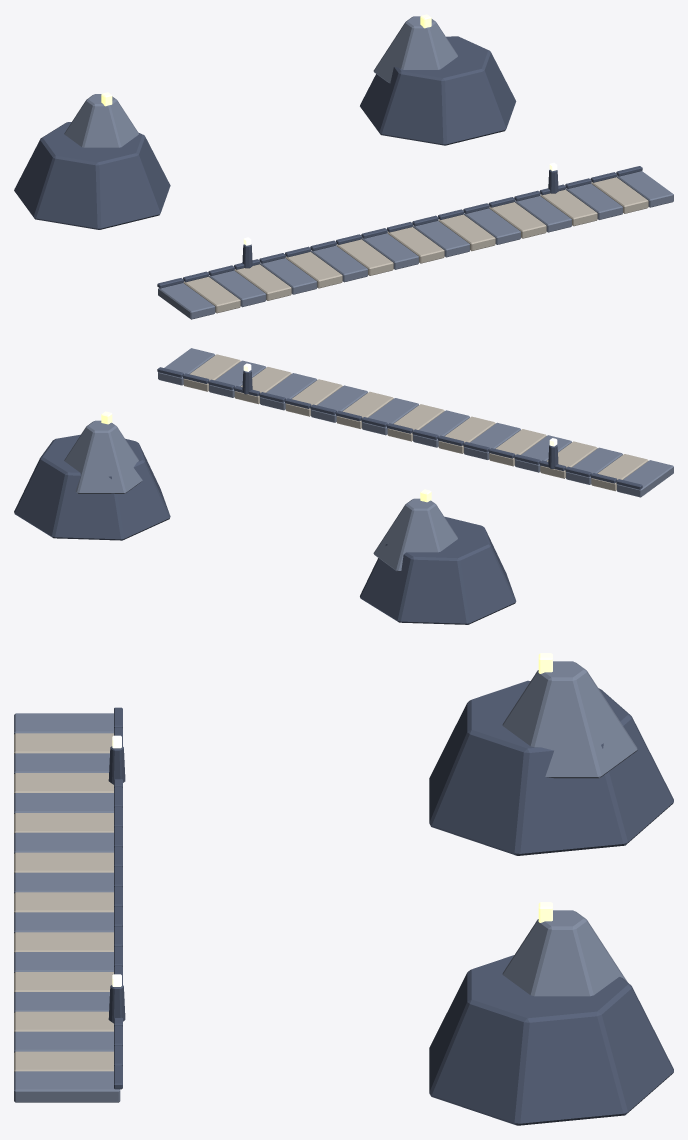
Rendered from dawn_breakwater.glb.
3 renders of one model, top to bottom at view 1: azimuth 30°, elevation 25°; view 2: azimuth 150°, elevation 25°; view 3: azimuth 270°, elevation 25°, orthographic. The views are drawn at different scales.
Parts seen in each view (by area): view 1: DawnBreakwaterRoot_Merged, Headland_-1_Merged, Headland_1_Merged; view 2: DawnBreakwaterRoot_Merged, Headland_-1_Merged, Headland_1_Merged; view 3: DawnBreakwaterRoot_Merged, Headland_1_Merged, Headland_-1_Merged.
Boxes of the visible parts, bbox=[...] form: DawnBreakwaterRoot_Merged: bbox=[157, 162, 673, 319]; Headland_-1_Merged: bbox=[14, 92, 170, 229]; Headland_1_Merged: bbox=[360, 14, 516, 145]; DawnBreakwaterRoot_Merged: bbox=[157, 348, 673, 497]; Headland_-1_Merged: bbox=[360, 489, 516, 624]; Headland_1_Merged: bbox=[14, 411, 170, 540]; DawnBreakwaterRoot_Merged: bbox=[14, 707, 125, 1102]; Headland_1_Merged: bbox=[429, 902, 673, 1125]; Headland_-1_Merged: bbox=[429, 653, 673, 855].
Size of the model in its own units: 21.82 by 4.27 by 16.13.
